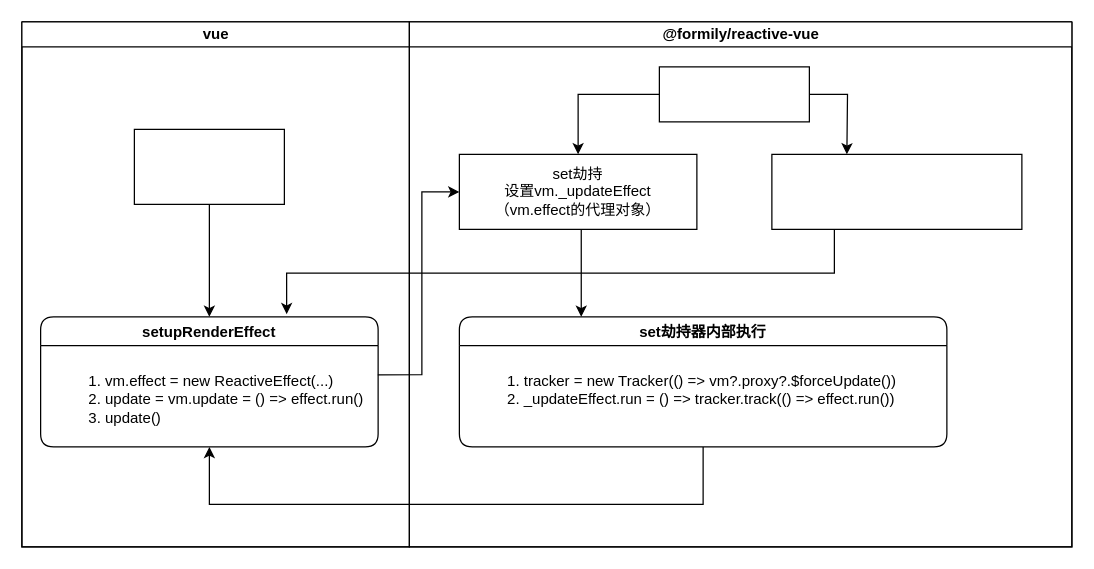
The diagram is 1094 pixels wide and 569 high, and some of its shapes have lost their labels. The centre of each missing label's shape, as x and y in pixels:
get 劫持 返回新的代理对象vm._updateEffect: (896,191)
mountComponent: (208,166)
vm.effect 劫持: (733,94)
